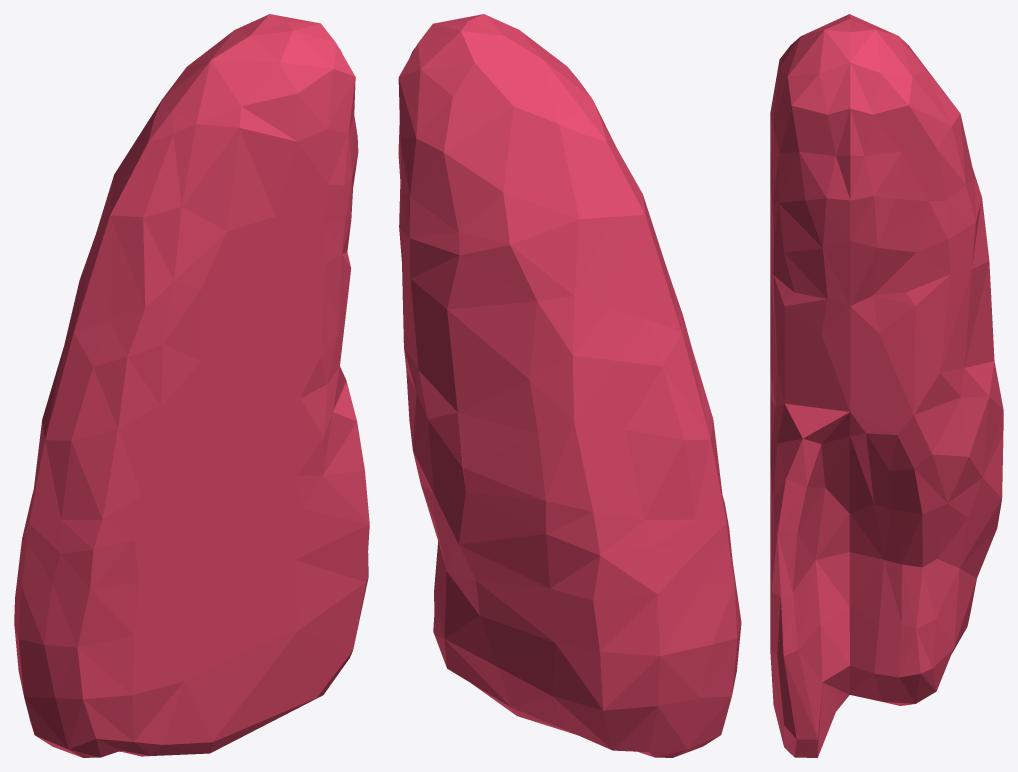
File: Long_R.fbx
3 renders of one model, left to right at view 1: azimuth 30°, elevation 25°; view 2: azimuth 150°, elevation 25°; view 3: azimuth 270°, elevation 25°, orthographic. The views are drawn at different scales.
Parts seen in each view (by area): view 1: polySurface2; view 2: polySurface2; view 3: polySurface2.
Boxes of the visible parts, x1,y1,x2,y2 form: polySurface2: (14, 14, 369, 757); polySurface2: (398, 14, 741, 757); polySurface2: (770, 14, 1003, 757).
Bounding box in the file's own units: 6.03 × 12 × 3.38.
